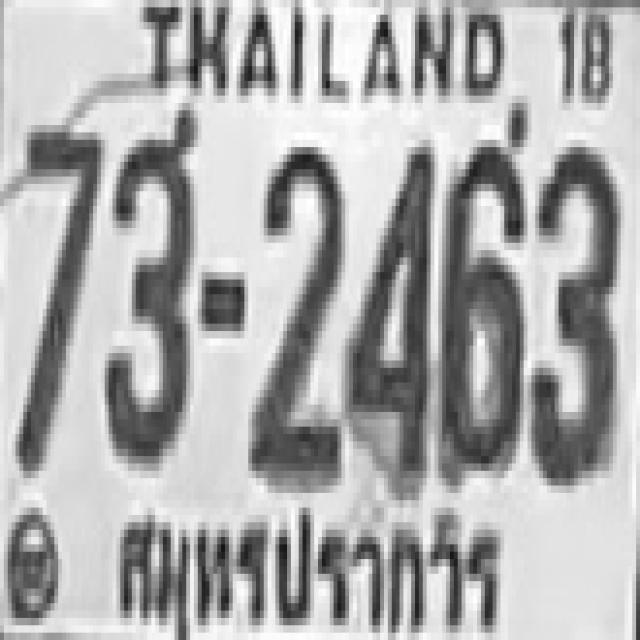2: (250, 133, 340, 478)
3: (101, 103, 194, 456), (528, 140, 616, 478)
4: (345, 140, 431, 478)
6: (438, 136, 520, 467)
7: (15, 118, 101, 463)
SPK: (111, 499, 507, 640)
